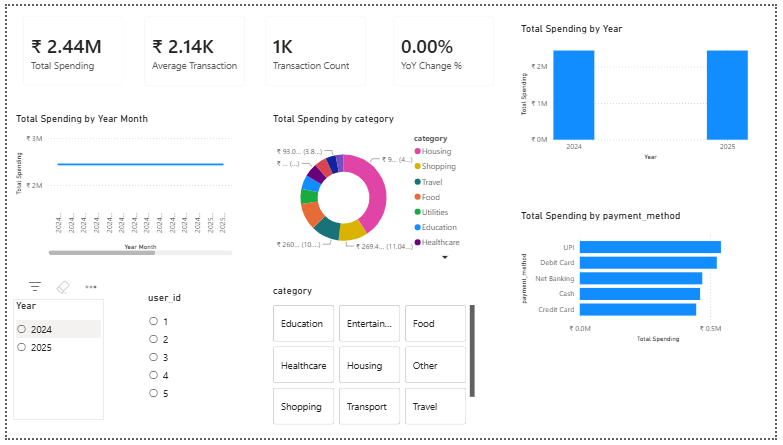

Layout of this report page (visuals, bound fields, positions):
{"tool":"powerbi","page":{"name":"Page 1","canvas":[1280,720],"ordinal":0},"visuals":[{"type":"cardVisual","fields":{"Data":["expense_transactions.Total Spending"]},"box":[10.1,0,201.6,149.5],"z":0},{"type":"cardVisual","fields":{"Data":["expense_transactions.Average Transaction"]},"box":[211.7,0,202,150],"z":1000},{"type":"cardVisual","fields":{"Data":["expense_transactions.Transaction Count"]},"box":[413.2,0,202,150],"z":2000},{"type":"cardVisual","fields":{"Data":["expense_transactions.YoY Change %"]},"box":[626.6,0,202,150],"z":3000},{"type":"lineChart","fields":{"Y":["expense_transactions.Total Spending"],"Category":["DateTable.Year Month"]},"box":[10.1,176.4,371.2,243.6],"z":4000},{"type":"donutChart","fields":{"Category":["expense_transactions.category"],"Y":["expense_transactions.Total Spending"]},"box":[438.4,176.4,346,255.3],"z":5000},{"type":"clusteredColumnChart","fields":{"Category":["DateTable.Year"],"Y":["expense_transactions.Total Spending"]},"box":[851.7,26.9,388,235.2],"z":6000},{"type":"barChart","fields":{"Y":["expense_transactions.Total Spending"],"Category":["expense_transactions.payment_method"]},"box":[851.7,337.6,388,226.8],"z":7000},{"type":"listSlicer","fields":{"Values":["DateTable.Year"]},"box":[10.1,488.8,151.2,201.6],"z":8000},{"type":"listSlicer","fields":{"Values":["expense_transactions.user_id"]},"box":[230.1,475.4,117.6,201.6],"z":9000},{"type":"advancedSlicerVisual","fields":{"Values":["expense_transactions.category"]},"box":[438.4,463.6,346,240.2],"z":10000}]}

Visuals, with their boxes in screenshot pixels (x1, y1, x2, y2), scaled from the page's 1280x720 canvas onto the 783x445 screenshot:
cardVisual - expense_transactions.Total Spending: 6,0,130,92
cardVisual - expense_transactions.Average Transaction: 130,0,253,93
cardVisual - expense_transactions.Transaction Count: 253,0,376,93
cardVisual - expense_transactions.YoY Change %: 383,0,507,93
lineChart - expense_transactions.Total Spending x DateTable.Year Month: 6,109,233,260
donutChart - expense_transactions.category x expense_transactions.Total Spending: 268,109,480,267
clusteredColumnChart - DateTable.Year x expense_transactions.Total Spending: 521,17,758,162
barChart - expense_transactions.Total Spending x expense_transactions.payment_method: 521,209,758,349
listSlicer - DateTable.Year: 6,302,99,427
listSlicer - expense_transactions.user_id: 141,294,213,418
advancedSlicerVisual - expense_transactions.category: 268,287,480,435
